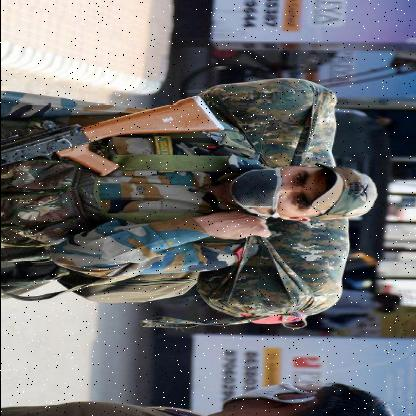rifle: (1, 93, 226, 179)
